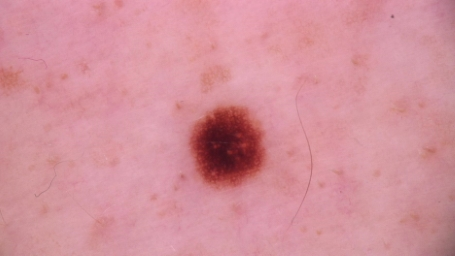melanoma: (188, 100, 266, 188)
